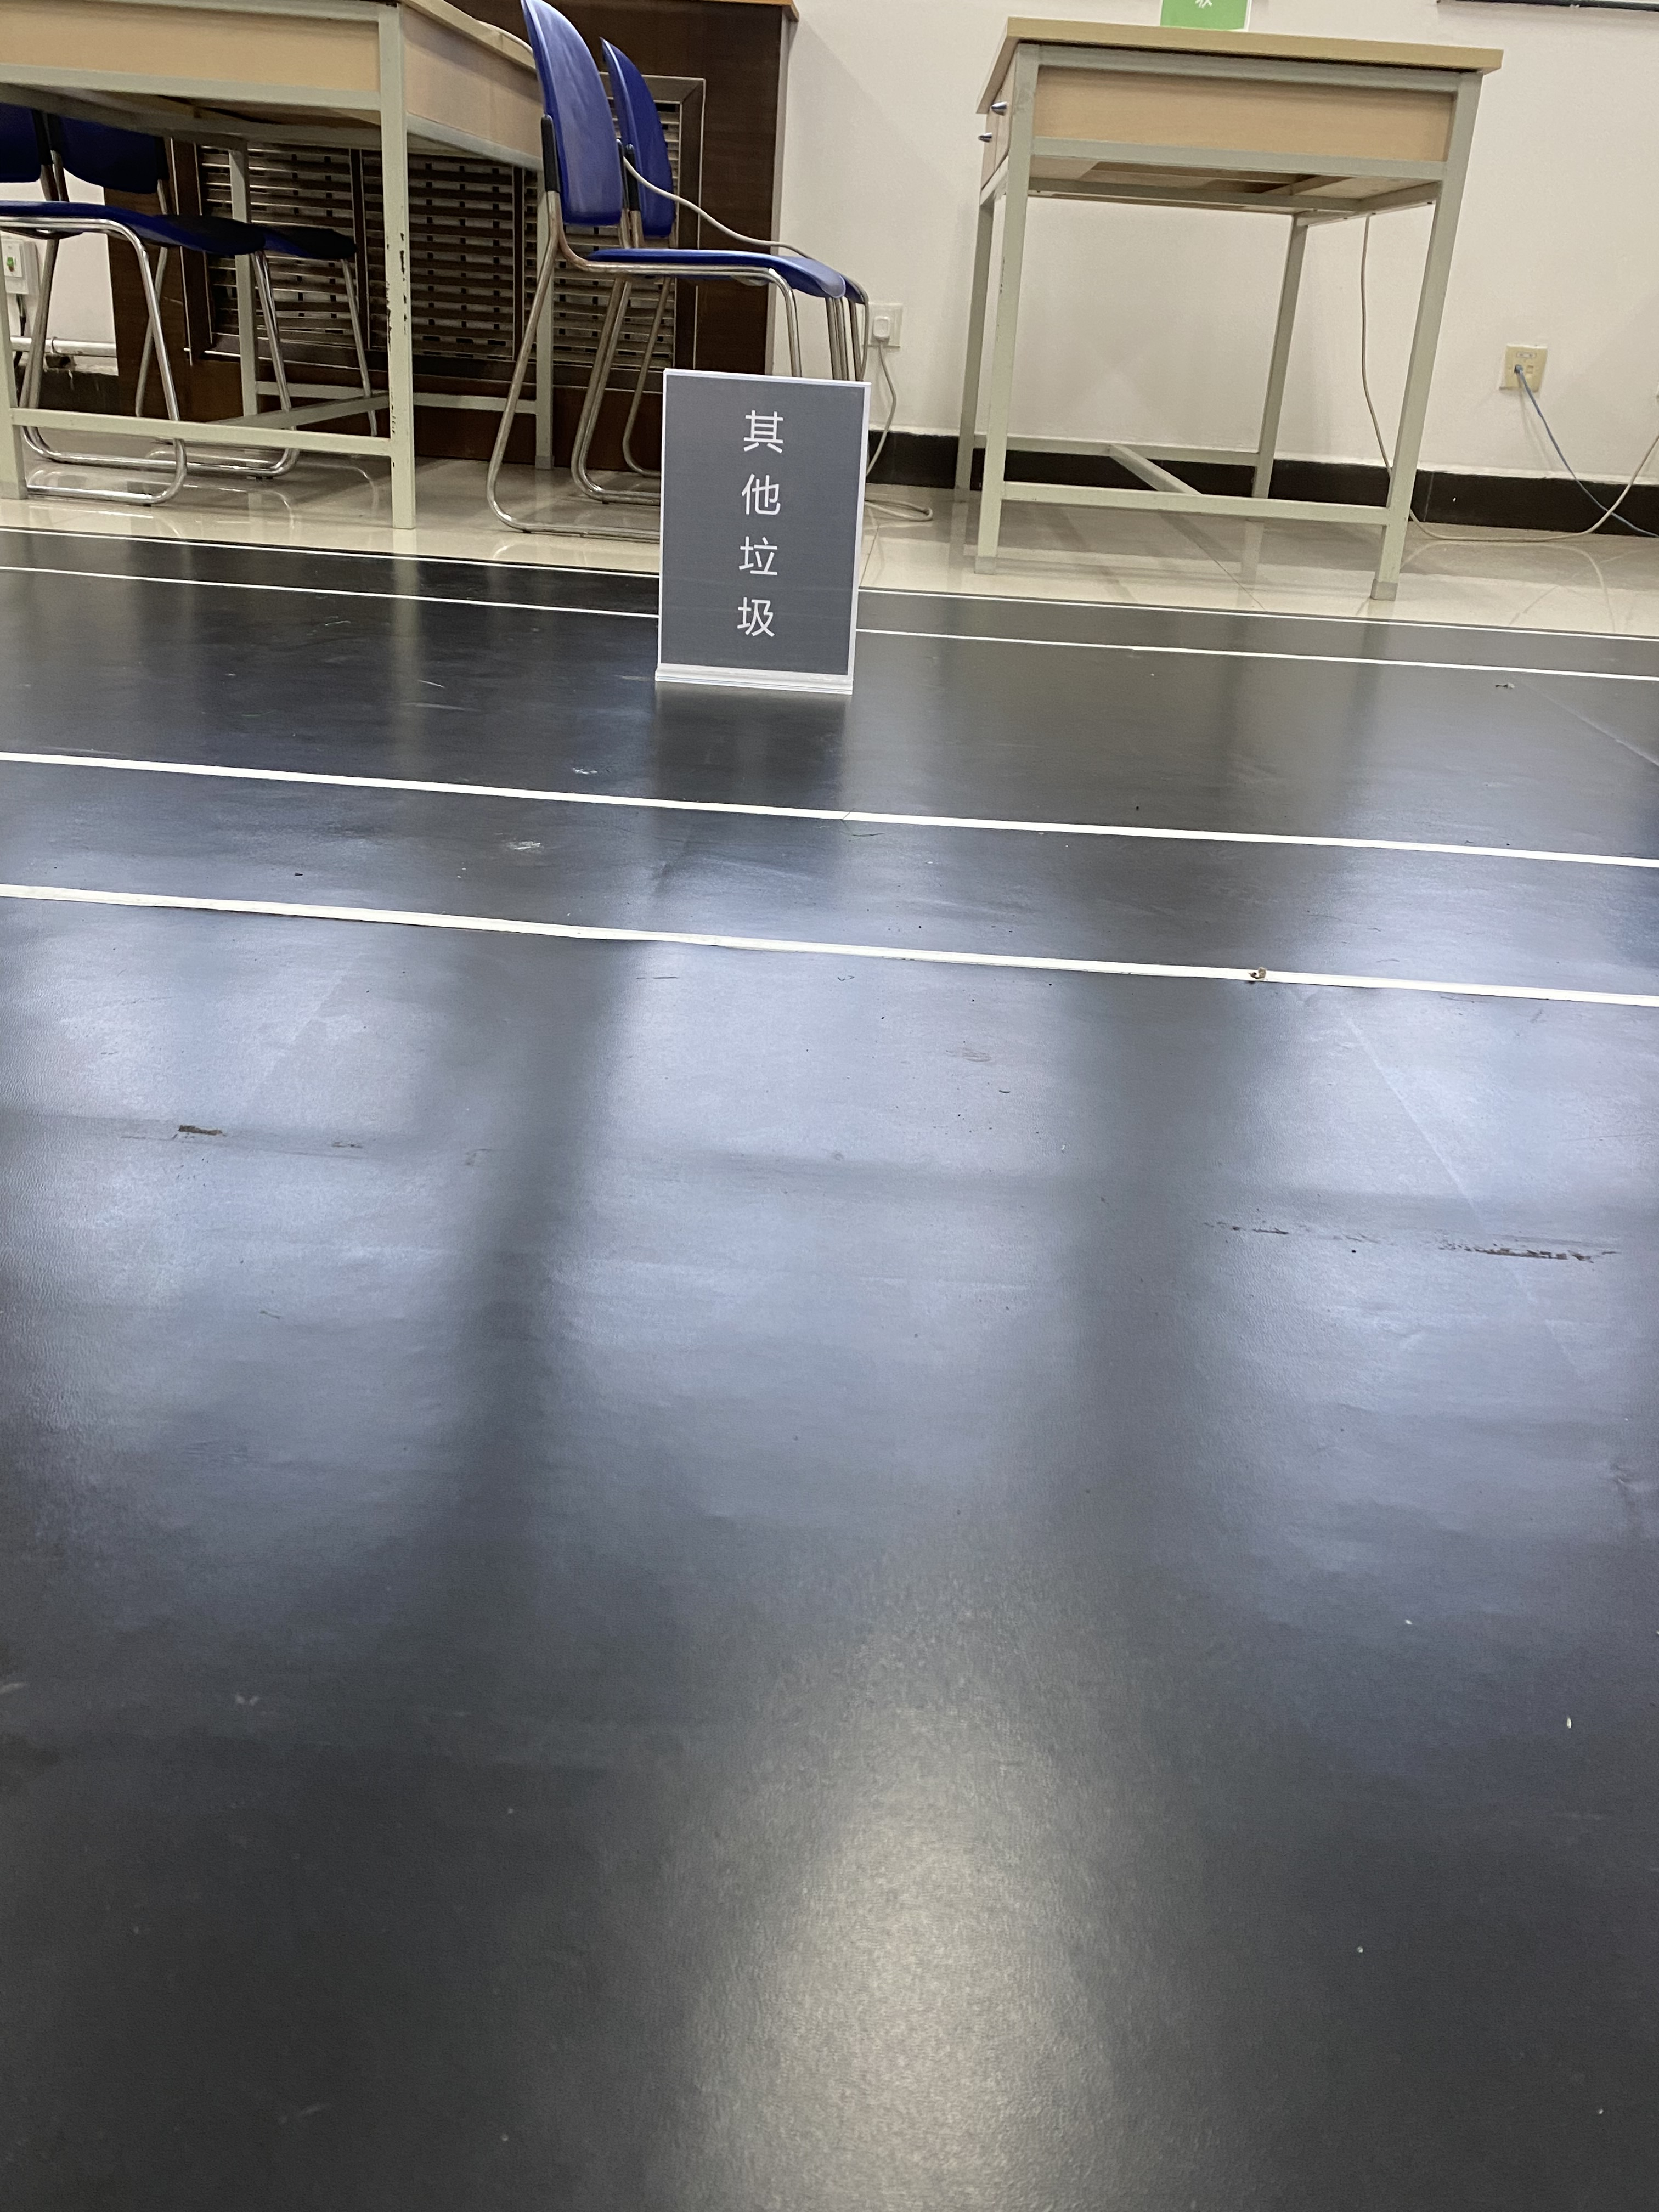black: (673, 381, 849, 664)
